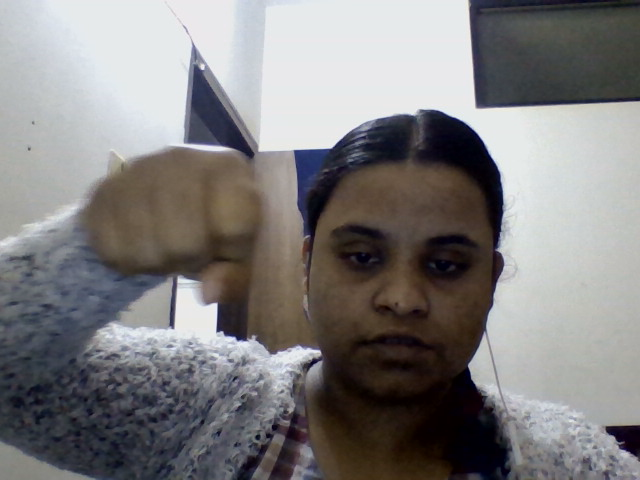Yes: (56, 78, 290, 298)
